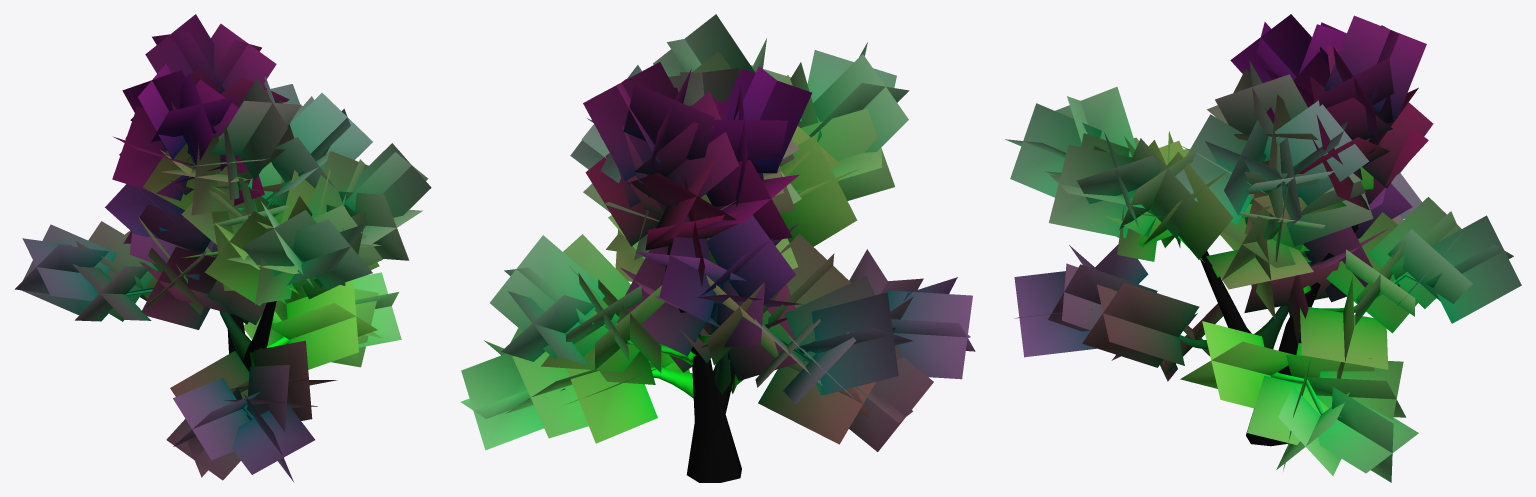
Rendered from URP_P11_Tree_9_LOD_3.fbx.
3 views of the same model, side by side, from view 1: azimuth 30°, elevation 25°; view 2: azimuth 150°, elevation 25°; view 3: azimuth 270°, elevation 25° (orthographic). The views are drawn at different scales.
Visible parts, largest first — view 1: Tree_9_LOD_3; view 2: Tree_9_LOD_3; view 3: Tree_9_LOD_3.
Boxes of the visible parts, x1,y1,x2,y2 form: Tree_9_LOD_3: [15, 14, 431, 481]; Tree_9_LOD_3: [461, 14, 975, 482]; Tree_9_LOD_3: [1005, 14, 1521, 482].
Size of the model in its own units: 588 by 574 by 657.
